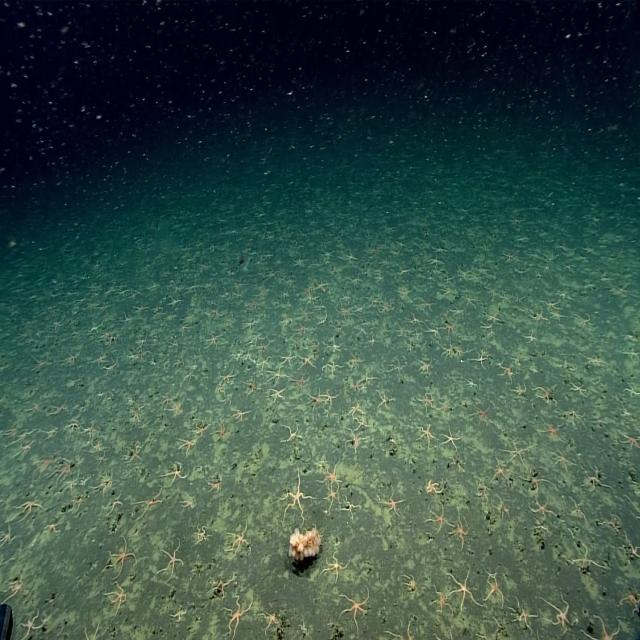brittle-stars: (281, 470, 310, 523), (223, 596, 253, 638), (338, 591, 369, 628), (448, 570, 477, 608), (108, 539, 136, 575), (584, 615, 622, 640), (19, 607, 47, 640), (160, 542, 184, 580), (135, 487, 164, 518), (546, 596, 572, 630), (228, 522, 252, 557), (210, 570, 237, 600), (17, 492, 46, 519), (514, 598, 536, 631), (324, 552, 346, 584), (450, 513, 470, 548), (428, 505, 452, 534), (382, 487, 404, 517), (106, 583, 128, 613), (506, 441, 530, 467), (434, 586, 454, 617), (165, 460, 189, 485), (487, 577, 506, 608), (4, 575, 24, 604), (582, 466, 604, 491), (552, 448, 573, 474), (261, 609, 281, 636), (532, 384, 555, 407), (530, 496, 552, 520), (541, 418, 563, 442), (322, 459, 341, 486), (620, 585, 640, 610), (54, 458, 74, 483), (442, 426, 462, 450), (490, 456, 508, 482), (562, 408, 584, 429), (345, 432, 367, 453), (620, 430, 640, 453), (568, 494, 584, 522), (473, 404, 492, 427), (80, 623, 105, 640), (176, 436, 196, 457), (568, 378, 588, 399), (283, 422, 302, 443), (43, 518, 61, 540), (343, 495, 360, 518), (324, 485, 340, 509), (425, 478, 444, 498), (125, 445, 143, 466), (419, 423, 435, 446), (269, 385, 288, 404), (418, 390, 436, 410), (388, 357, 406, 377), (0, 524, 15, 548), (473, 348, 490, 369), (191, 528, 207, 550), (269, 368, 287, 387), (391, 363, 409, 382), (206, 475, 223, 495), (378, 389, 394, 410), (213, 420, 228, 442), (233, 407, 251, 425), (542, 294, 560, 312), (322, 388, 338, 408), (196, 524, 211, 545), (324, 359, 341, 377), (221, 369, 239, 386), (180, 493, 197, 511), (499, 360, 514, 380), (193, 422, 210, 439), (292, 374, 308, 392), (245, 378, 261, 396), (202, 329, 218, 347), (348, 402, 364, 420), (417, 356, 432, 375), (442, 318, 457, 337), (169, 400, 184, 419), (348, 351, 363, 370), (439, 398, 454, 417), (323, 365, 339, 382), (206, 332, 221, 350), (354, 416, 369, 434), (512, 382, 527, 400), (310, 390, 324, 409), (300, 353, 316, 369), (258, 354, 274, 370), (134, 302, 150, 318), (298, 358, 314, 374), (534, 307, 549, 323), (420, 298, 435, 314), (280, 351, 295, 366), (94, 440, 105, 455), (465, 378, 477, 390)
